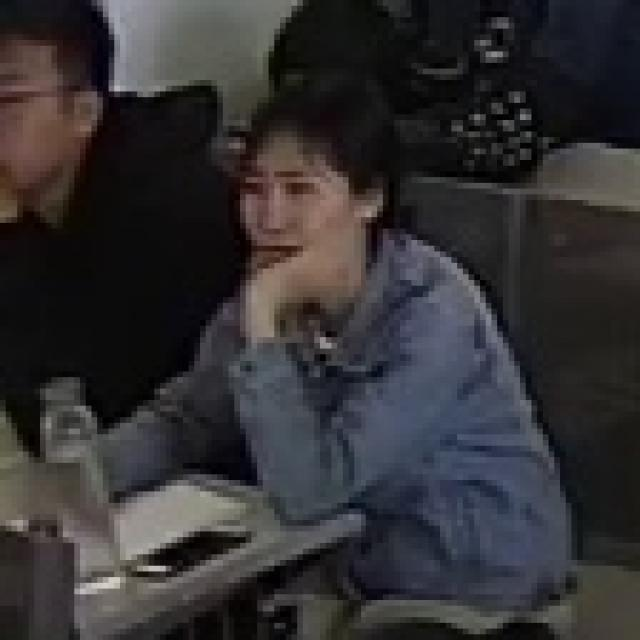listen: (110, 86, 572, 610), (0, 0, 217, 434)
